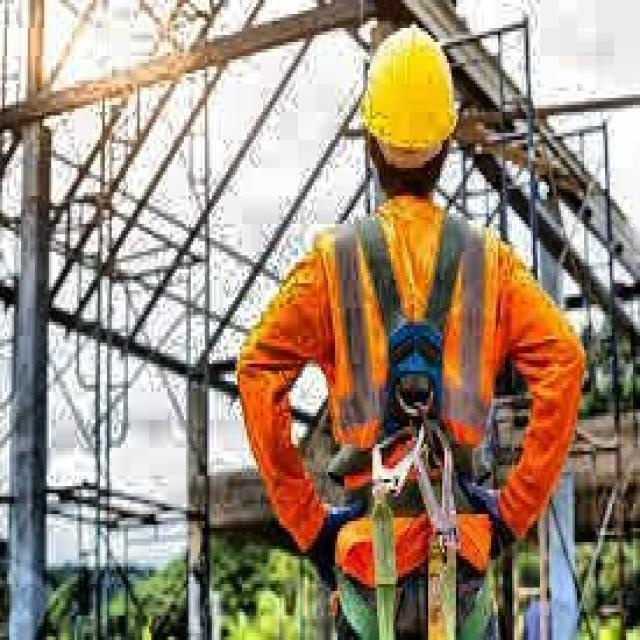Arnes_seguridad: (320, 200, 487, 490)
